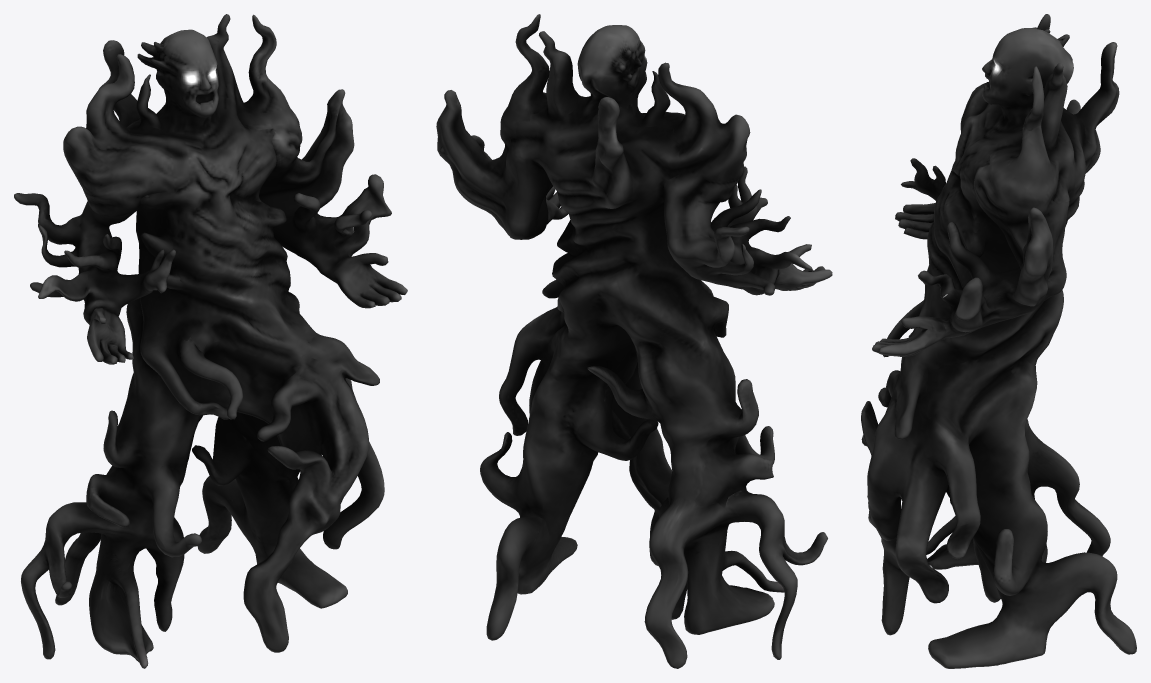
File: MZ4250 - Allip.glb
3 renders of one model, left to right at view 1: azimuth 30°, elevation 25°; view 2: azimuth 150°, elevation 25°; view 3: azimuth 270°, elevation 25°, orthographic. The views are drawn at different scales.
Parts seen in each view (by area): view 1: Body.002; view 2: Body.002; view 3: Body.002.
Part boxes in pixels (box(x1,y1,x2,y2)): Body.002: box(14, 14, 407, 668); Body.002: box(436, 14, 832, 668); Body.002: box(861, 14, 1136, 668).
Size of the model in its own units: 0.5453 by 0.8869 by 0.3707.
1 material, 1 textured.
